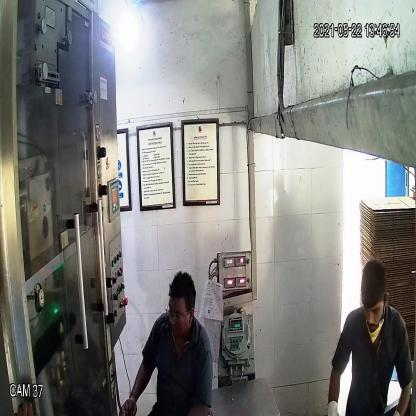goggles: (164, 304, 196, 322)
